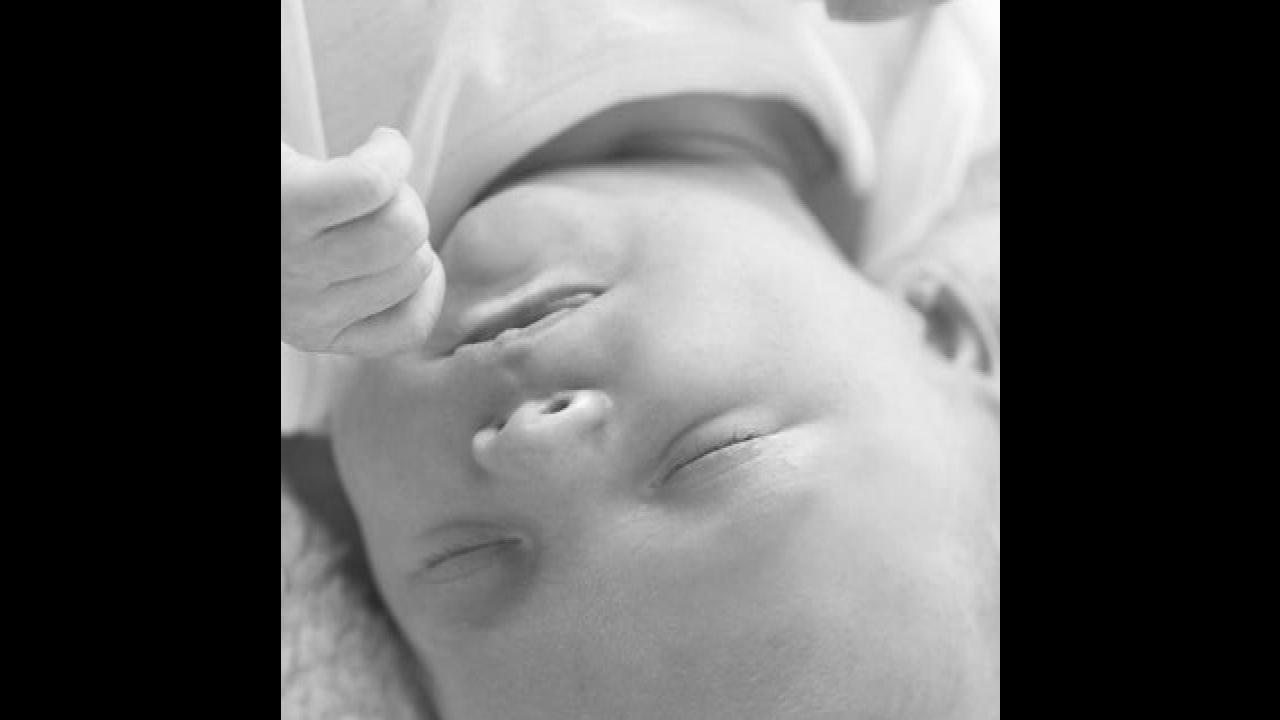hand: (280, 123, 444, 358)
